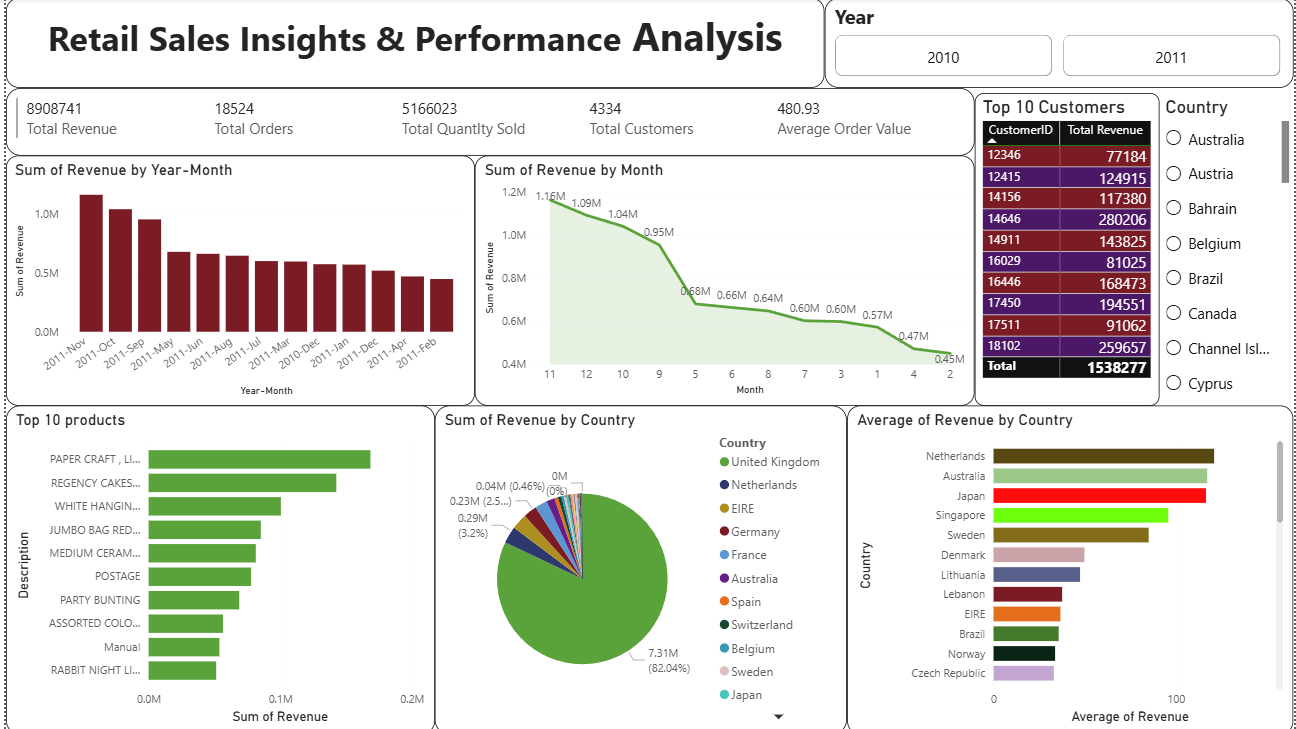

The page's visual inventory and layout, read from the dashboard file:
{"tool":"powerbi","page":{"name":"Page 1","canvas":[1400,800],"ordinal":0},"visuals":[{"type":"multiRowCard","fields":{"Values":["online_retail_cleaned.Total Revenue","online_retail_cleaned.Total Orders","online_retail_cleaned.Total Quantlty Sold","online_retail_cleaned.Total Customers","online_retail_cleaned.Average Order Value"]},"box":[0,97.8,1053,73.4],"z":0},{"type":"lineChart","fields":{"Y":["Sum(online_retail_cleaned.Revenue)"],"Category":["online_retail_cleaned.Month"]},"box":[509.5,171.2,543.5,271.7],"z":1000},{"type":"columnChart","fields":{"Y":["Sum(online_retail_cleaned.Revenue)"],"Category":["online_retail_cleaned.Year-Month"]},"box":[0,171.2,509.5,271.7],"z":2000},{"type":"pivotTable","title":"Top 10 Customers","fields":{"Rows":["online_retail_cleaned.CustomerID"],"Values":["online_retail_cleaned.Total Revenue"]},"box":[1053,103.3,201.1,339.7],"z":3000},{"type":"barChart","title":"Top 10 products","fields":{"Y":["Sum(online_retail_cleaned.Revenue)"],"Category":["online_retail_cleaned.Description"]},"box":[0,442.9,466,357.3],"z":4000},{"type":"listSlicer","fields":{"Values":["online_retail_cleaned.Country"]},"box":[1255.4,107.3,144,335.6],"z":5000},{"type":"advancedSlicerVisual","fields":{"Values":["online_retail_cleaned.Year"]},"box":[890,0,509.5,97.8],"z":6000},{"type":"pieChart","fields":{"Category":["online_retail_cleaned.Country"],"Y":["Sum(online_retail_cleaned.Revenue)"]},"box":[466,442.9,448.4,357.3],"z":7000},{"type":"barChart","fields":{"Category":["online_retail_cleaned.Country"],"Y":["Avg(online_retail_cleaned.Revenue)"]},"box":[914.4,442.9,485.1,357.3],"z":8000},{"type":"textbox","box":[0,0,890,97.8],"z":9000}]}

Visuals, with their boxes in screenshot pixels (x1, y1, x2, y2), scaled from the page's 1400x800 canvas onto the 1296x729 screenshot:
multiRowCard - online_retail_cleaned.Total Revenue x online_retail_cleaned.Total Orders: 0/89/975/156
lineChart - Sum(online_retail_cleaned.Revenue) x online_retail_cleaned.Month: 472/156/975/404
columnChart - Sum(online_retail_cleaned.Revenue) x online_retail_cleaned.Year-Month: 0/156/472/404
"Top 10 Customers" pivotTable: 975/94/1161/404
"Top 10 products" barChart: 0/404/431/728
listSlicer - online_retail_cleaned.Country: 1162/98/1295/404
advancedSlicerVisual - online_retail_cleaned.Year: 824/0/1295/89
pieChart - online_retail_cleaned.Country x Sum(online_retail_cleaned.Revenue): 431/404/846/728
barChart - online_retail_cleaned.Country x Avg(online_retail_cleaned.Revenue): 846/404/1295/728
textbox: 0/0/824/89
